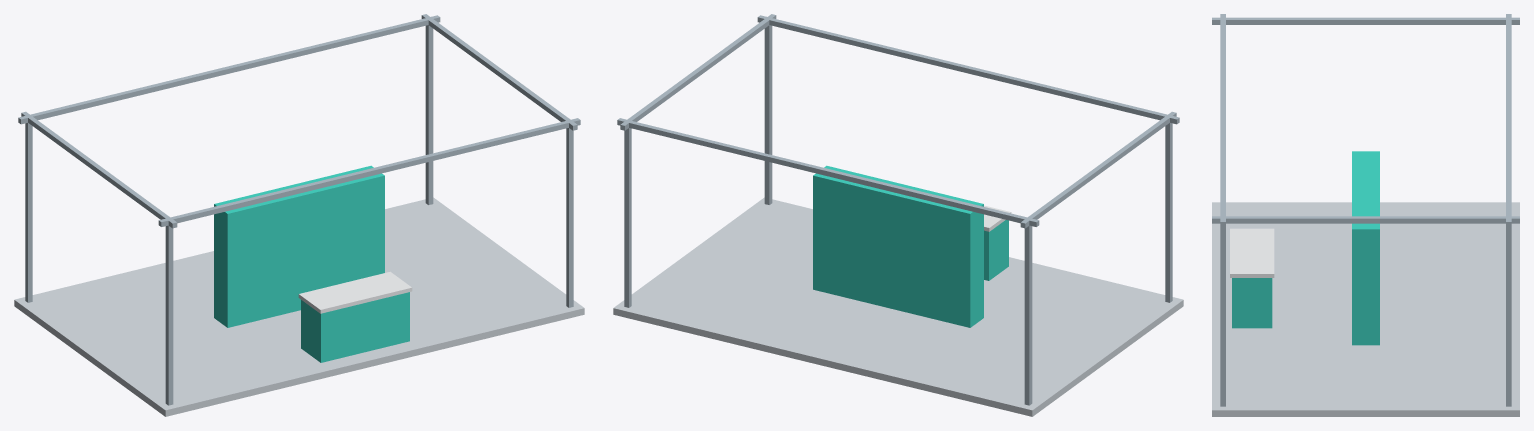
3 renders of one model, left to right at view 1: azimuth 30°, elevation 25°; view 2: azimuth 150°, elevation 25°; view 3: azimuth 270°, elevation 25°, orthographic.
Visible parts, largest first — view 1: Exhibition Booth Concept; view 2: Exhibition Booth Concept; view 3: Exhibition Booth Concept.
Boxes of the visible parts, x1,y1,x2,y2 form: Exhibition Booth Concept: (14,14,584,416); Exhibition Booth Concept: (613,14,1183,416); Exhibition Booth Concept: (1212,14,1519,416).
Bounding box in the file's own units: 8 × 3.49 × 5.
